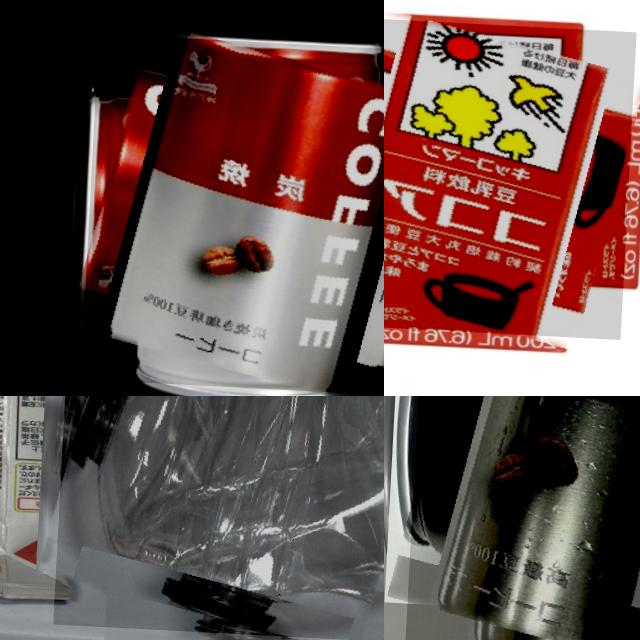Aluminium Foil: (384, 16, 635, 340), (0, 396, 97, 605)
Can: (79, 33, 384, 396), (403, 396, 640, 640)
Transparent Plastic Bottle: (52, 396, 384, 640)
